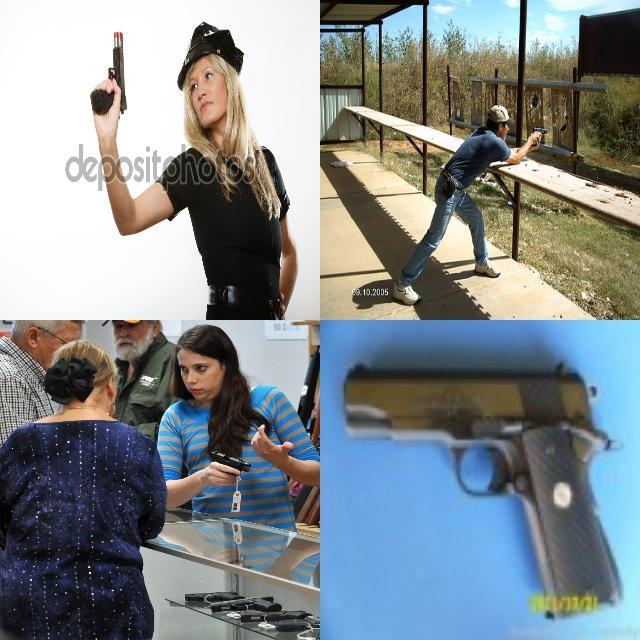gun-knife-thesis - v11 Yolov5 augmented: (337, 353, 629, 617), (83, 24, 128, 118), (238, 603, 310, 624), (209, 594, 280, 615), (208, 449, 250, 481), (182, 587, 244, 603), (530, 124, 546, 146)
